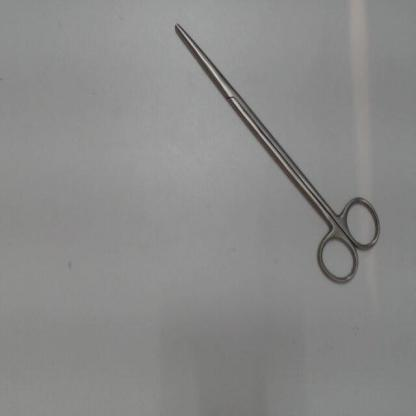9 Metzenbaum Scissors: (167, 15, 388, 294)
